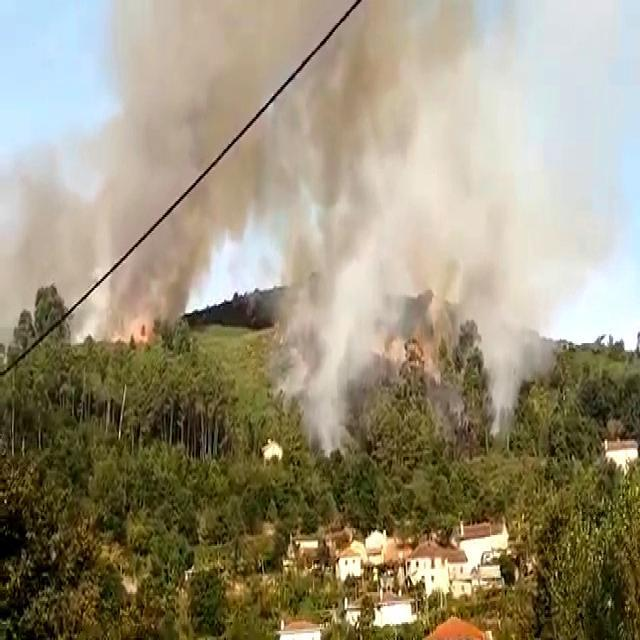Smoke: (256, 0, 640, 436), (1, 0, 303, 338)
